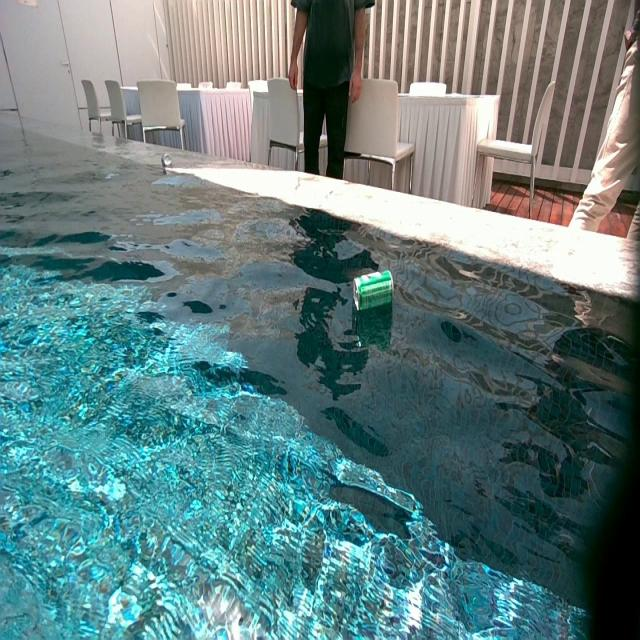Cans: (354, 268, 393, 314), (160, 151, 172, 166)
